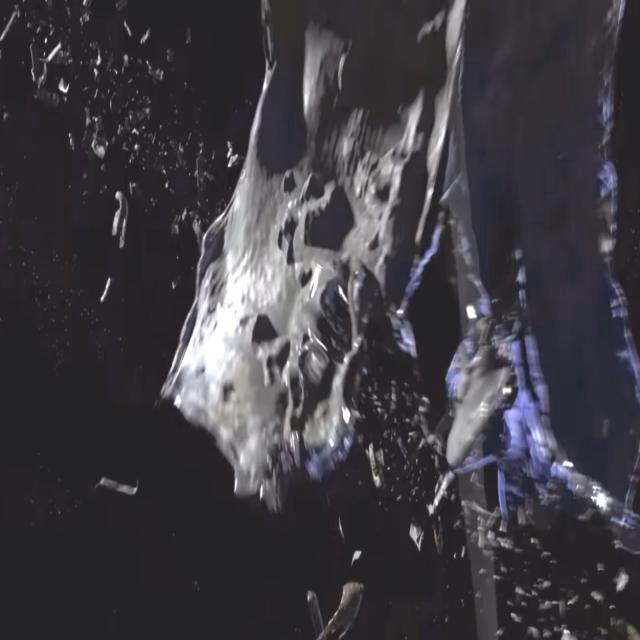large_debris: (148, 0, 562, 526), (567, 145, 639, 570), (299, 550, 365, 640), (98, 176, 136, 306), (100, 453, 136, 540), (25, 38, 71, 98), (84, 111, 108, 168), (407, 516, 427, 566)
